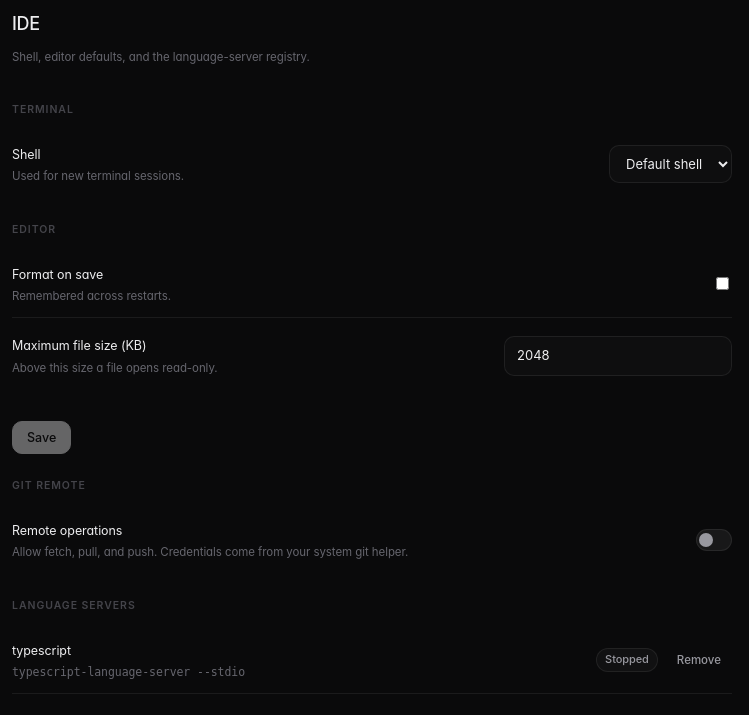
Scenario: IdeSettings › removes a language server
Check: the text "typescript-language-server --stdio" is shown, box top-left (12, 665), bottom-right (245, 679)
Click the button "Remove" next to "Stopped" at (699, 660), box top-left (666, 646), bottom-right (732, 674)
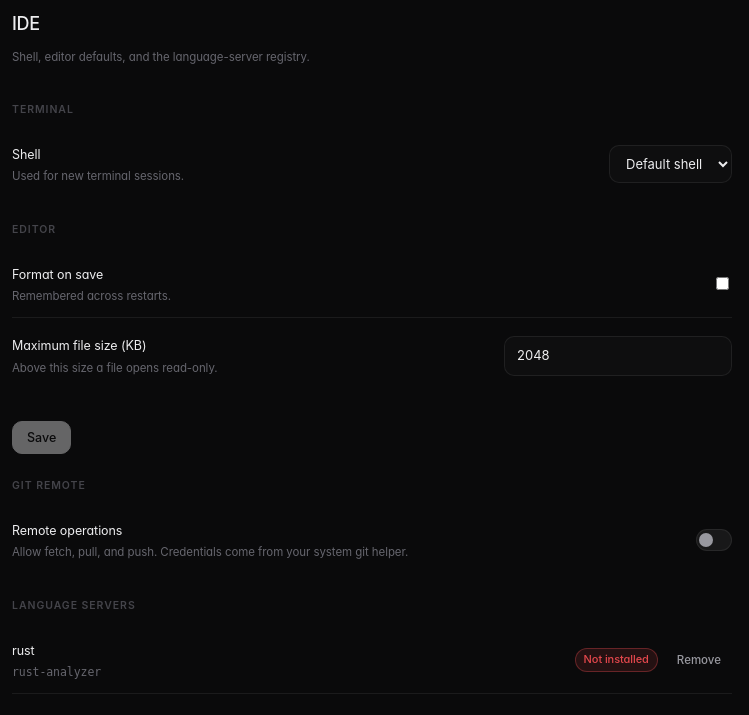
Check: the text "typescript-language-server" is gone
